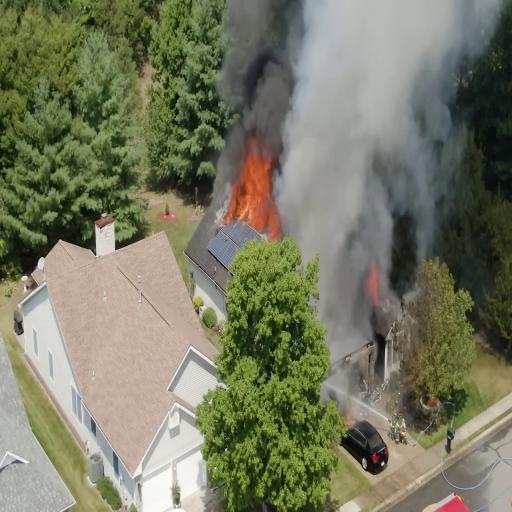fire: (229, 151, 277, 238)
smoke: (283, 12, 376, 220), (234, 14, 280, 140)
